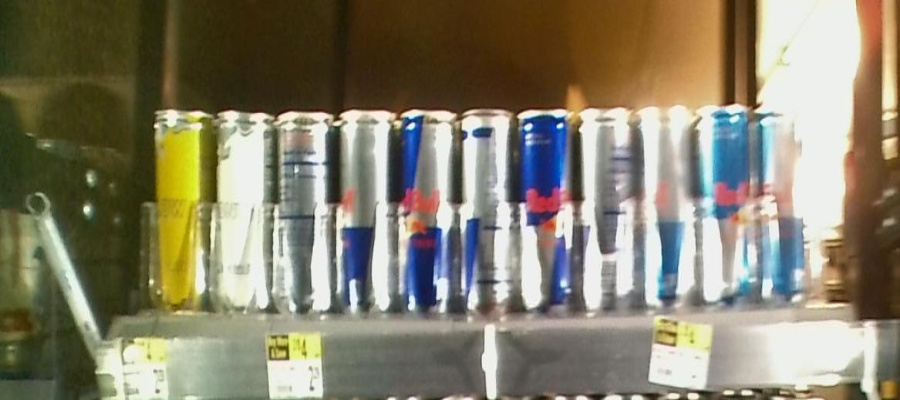bottle: (517, 96, 577, 316), (150, 102, 211, 316), (400, 101, 459, 320), (335, 105, 396, 315), (214, 100, 272, 316), (582, 104, 637, 328), (277, 99, 333, 316), (460, 95, 515, 315), (642, 99, 694, 312), (751, 105, 805, 304), (699, 100, 748, 304)
